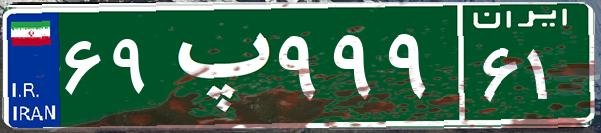1: (525, 38, 570, 115)
6: (57, 26, 110, 107), (475, 38, 525, 113)
9: (385, 28, 445, 110), (273, 28, 330, 110), (330, 28, 385, 110), (110, 28, 158, 105)
پ: (158, 15, 273, 115)
